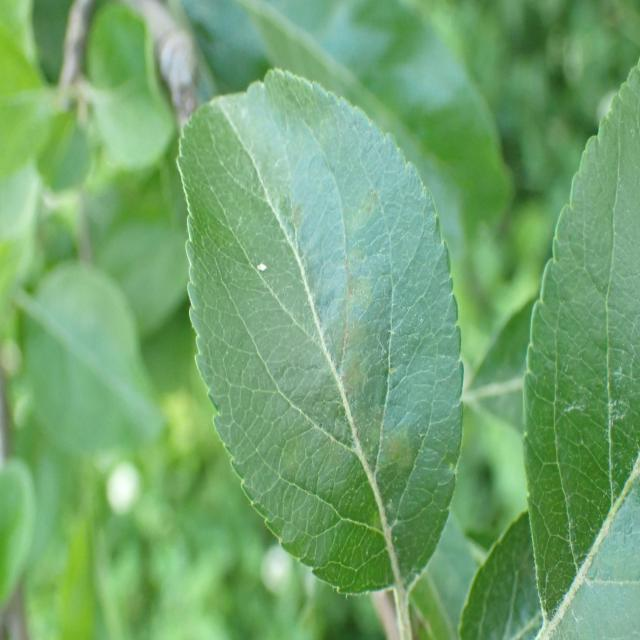scab: (206, 152, 424, 562)
